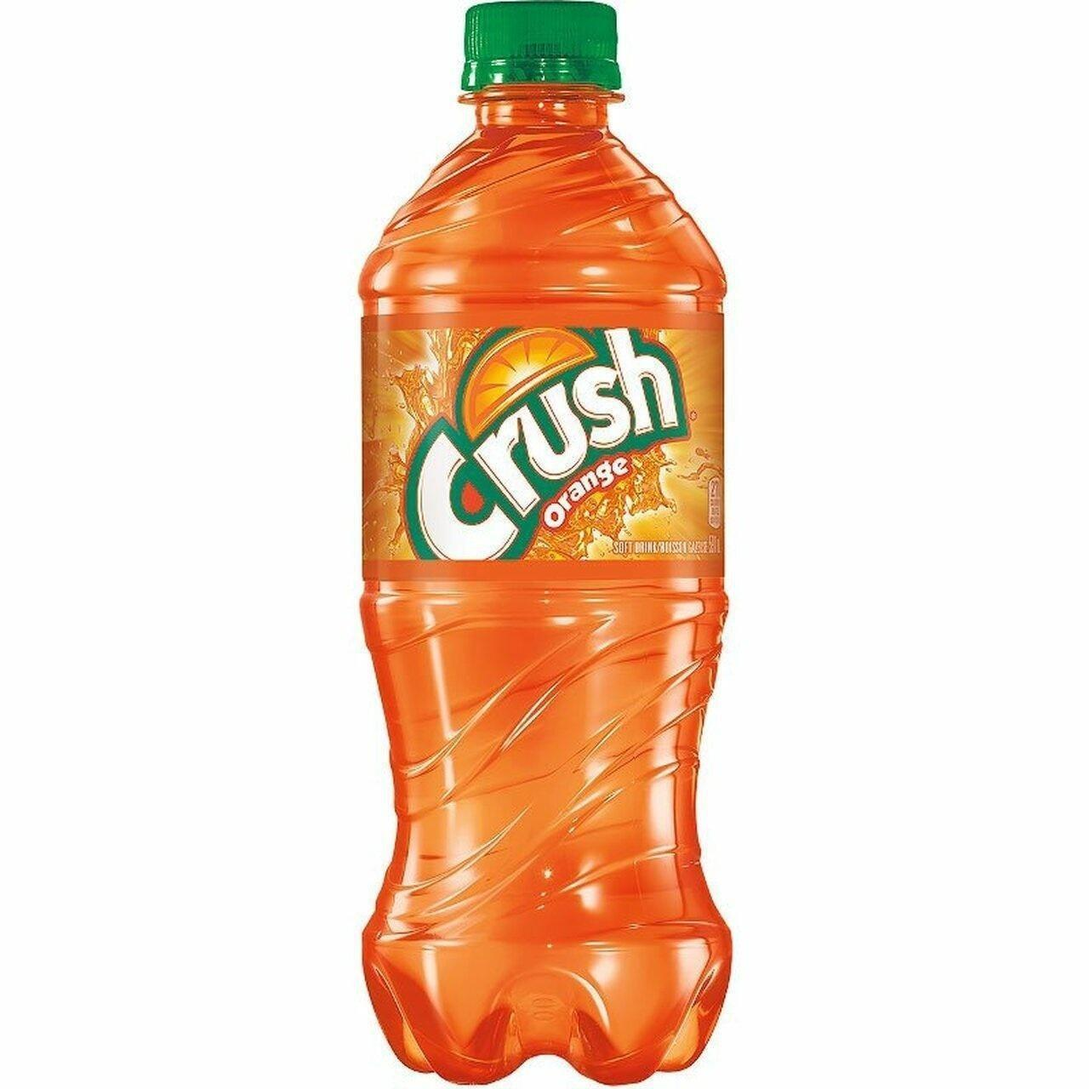bottle-plastic: (346, 0, 743, 1088)
